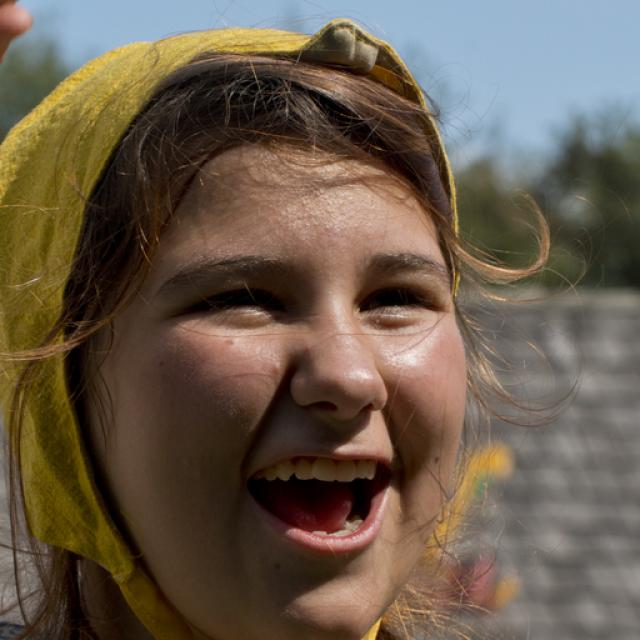Acne: (217, 332, 243, 351), (296, 341, 318, 354), (270, 359, 286, 376)
